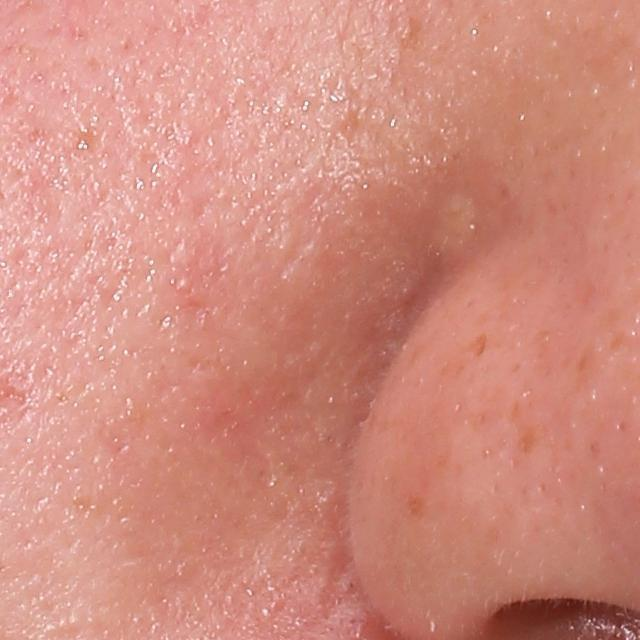hypertrophic_scar: (422, 179, 489, 267)
melasma: (512, 421, 544, 461), (399, 488, 434, 521), (464, 329, 491, 363)
